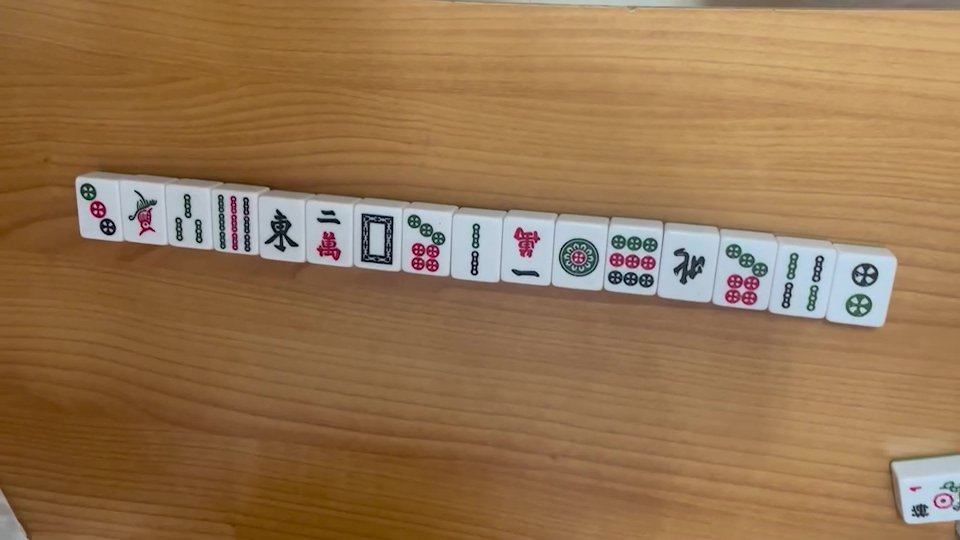b-1: (123, 187, 160, 239)
b-2: (458, 220, 492, 277)
b-3: (169, 192, 205, 246)
b-4: (777, 249, 827, 314)
b-9: (212, 193, 254, 253)
c-1: (508, 225, 545, 282)
c-2: (310, 205, 345, 261)
d-1: (556, 233, 602, 280)
d-2: (842, 256, 879, 323)
d-3: (75, 181, 116, 238)
d-7: (718, 240, 771, 307), (406, 212, 445, 273)
d-9: (607, 232, 658, 292)
honors-east: (261, 207, 297, 256)
honors-north: (669, 246, 709, 290)
honors-white: (356, 211, 397, 268)
